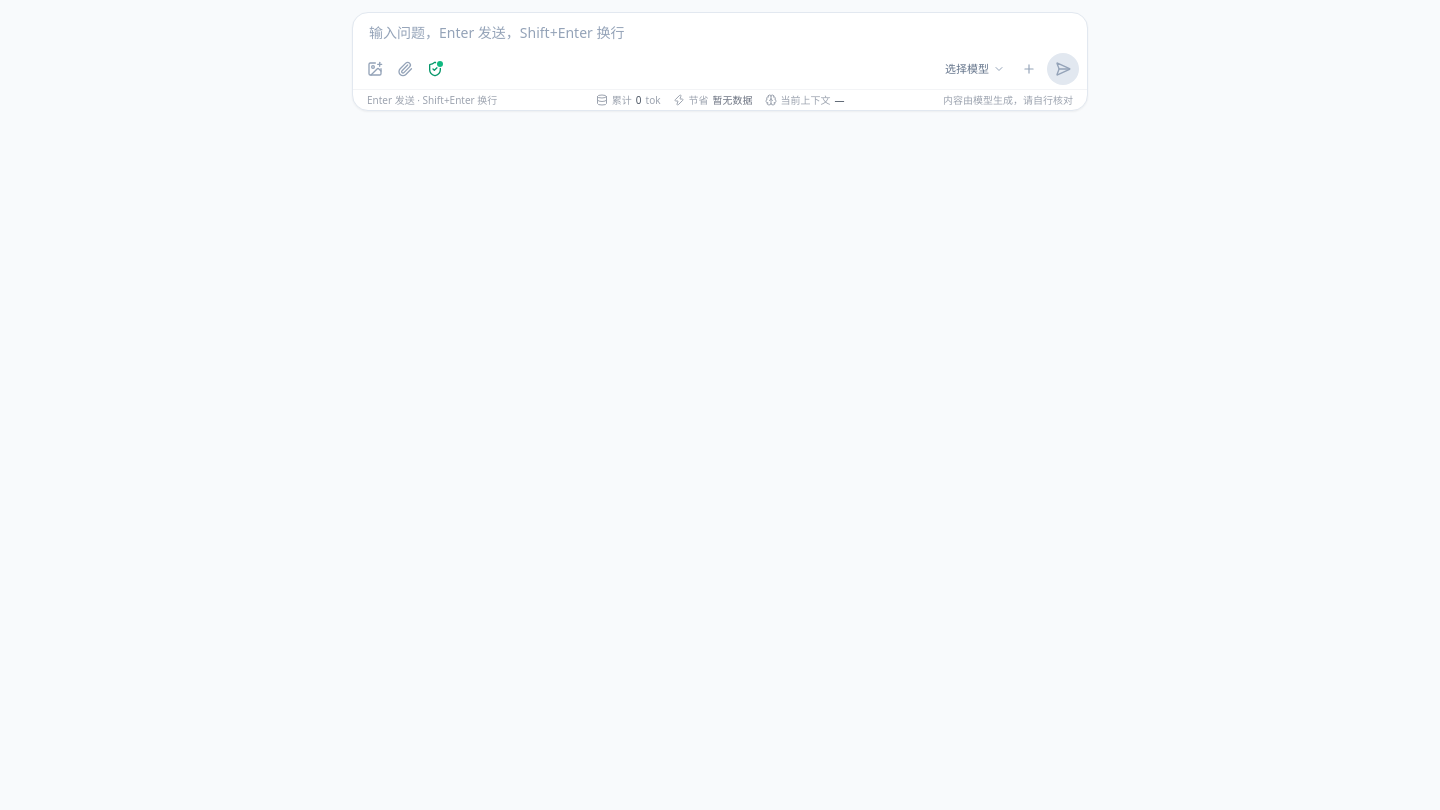
目录选择器（点击浏览代替手打路径） › 附加目录也可以点浏览按钮选择（回填到对应行）
Click the button with test id "sandbox-badge".
click(435, 69)  # box left=421, top=55, right=449, bottom=83
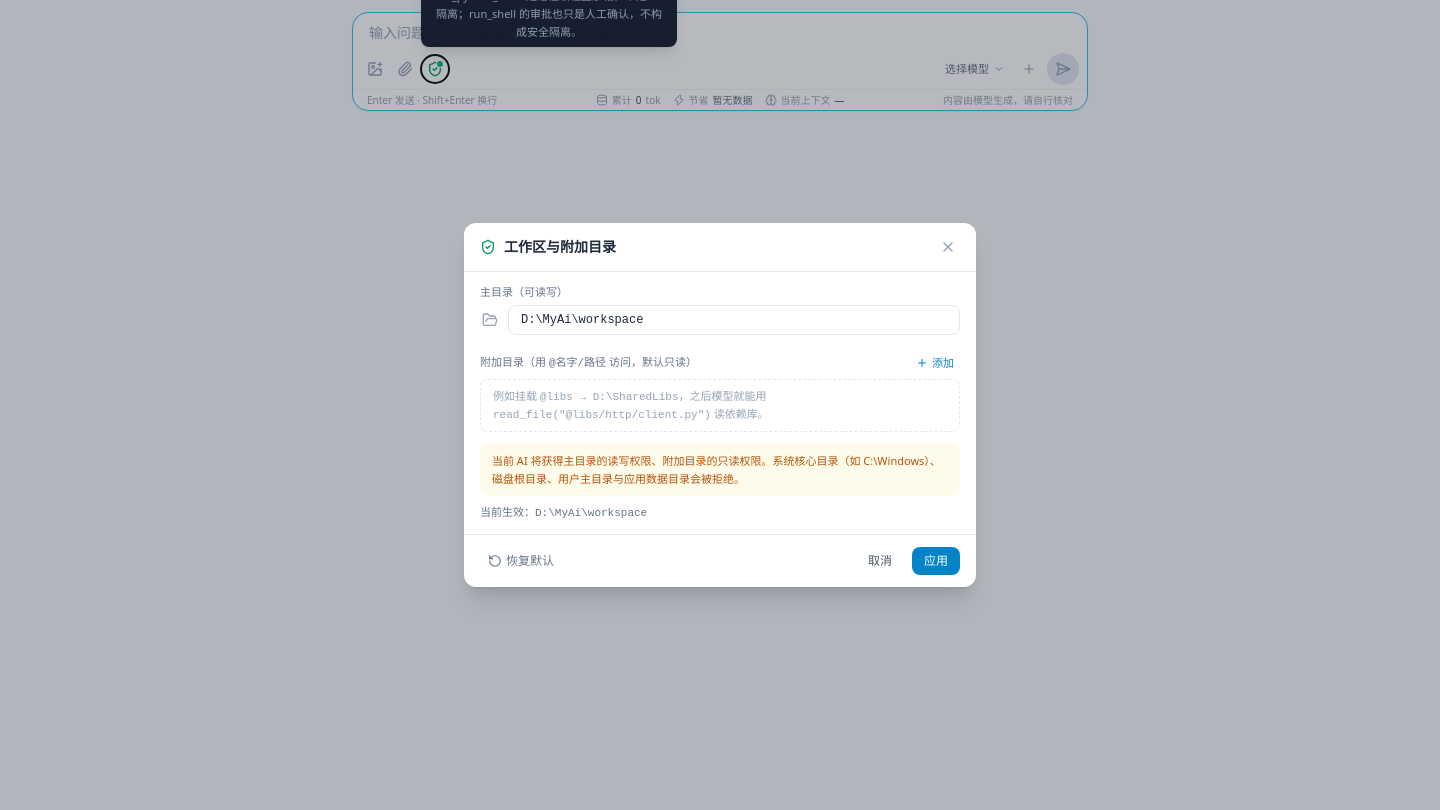
Click the button "添加".
click(935, 363)  # box left=910, top=351, right=960, bottom=375
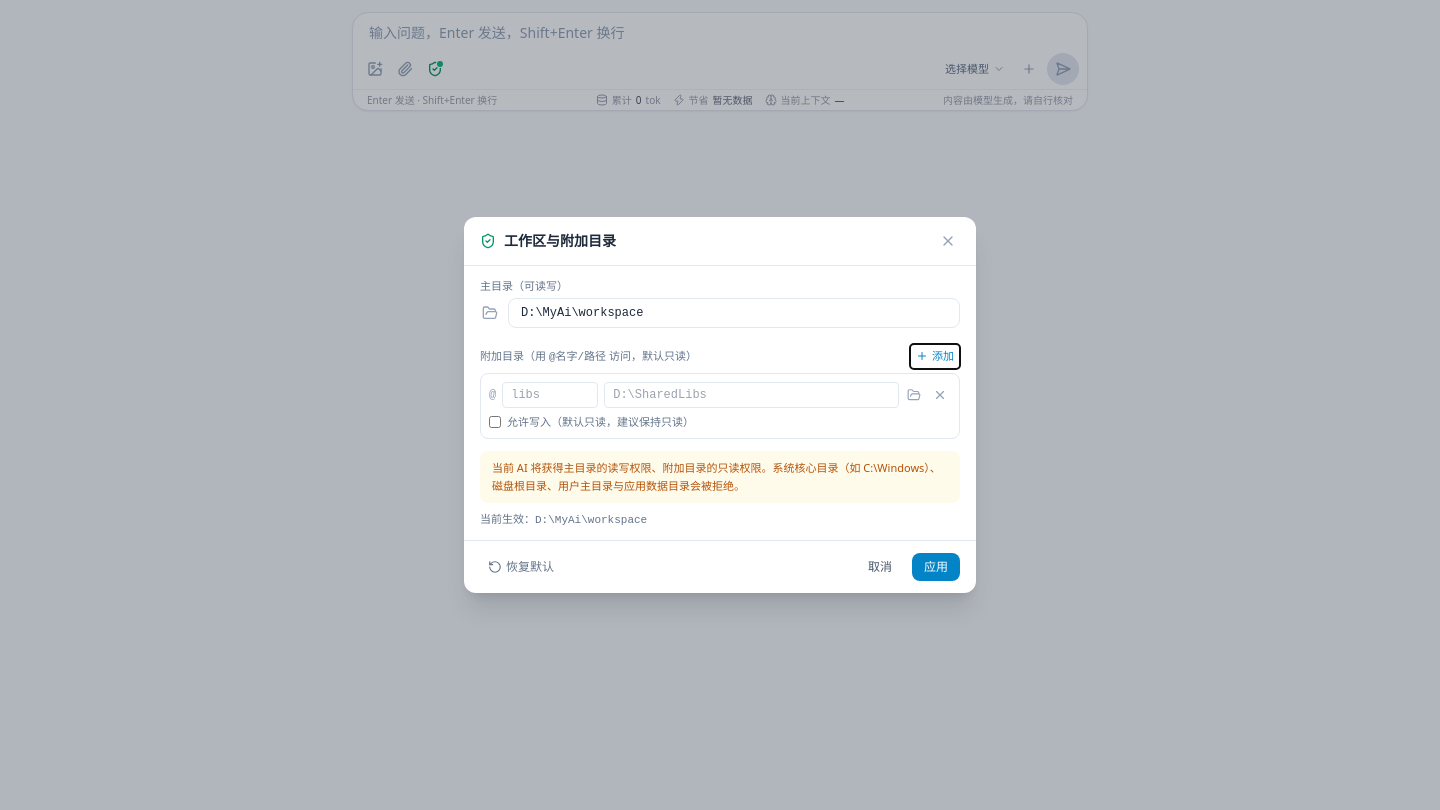
Click the button named "浏览选择附加目录 1".
click(914, 395)  # box left=905, top=386, right=923, bottom=404
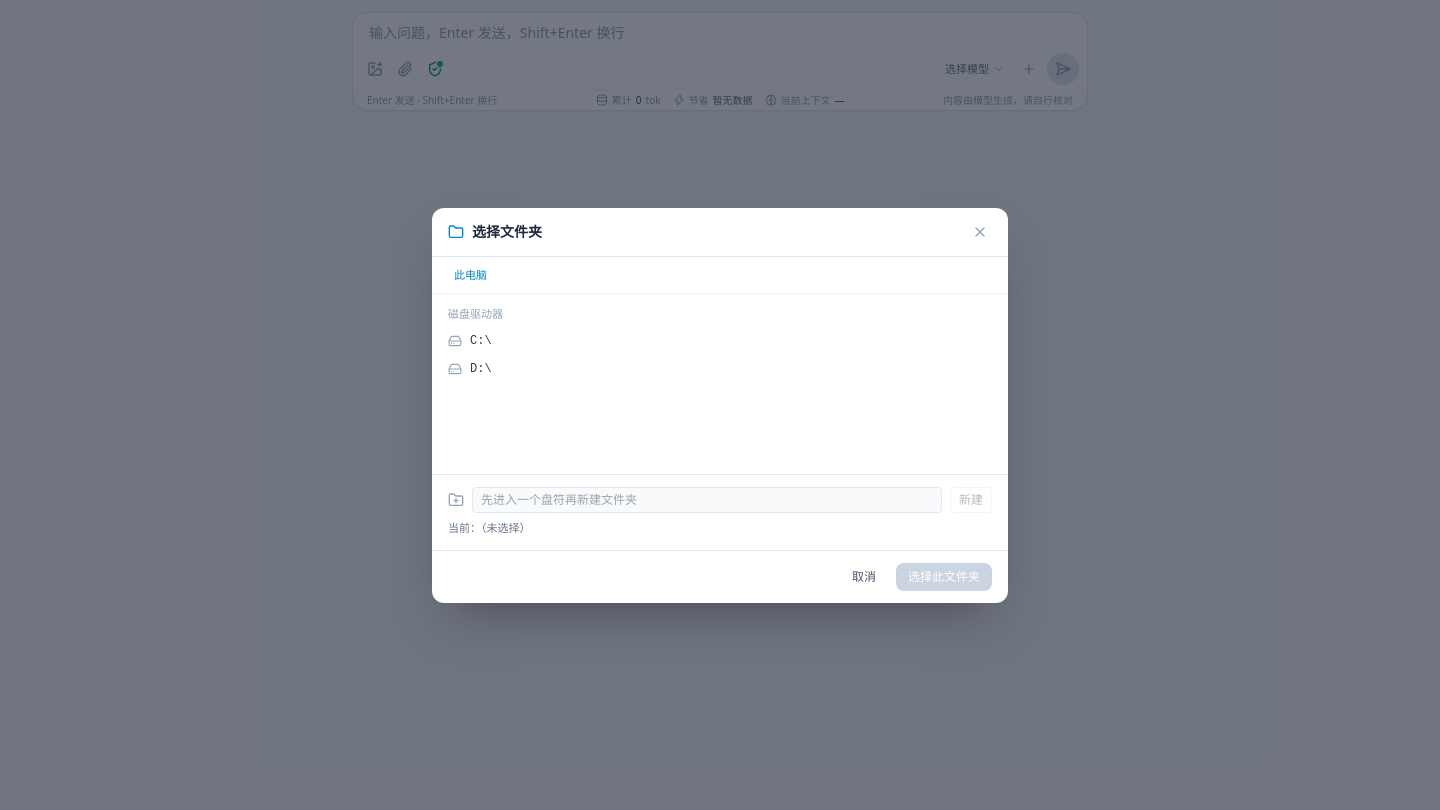
Click the button "D:\\".
click(455, 368)  # box left=440, top=354, right=1000, bottom=382
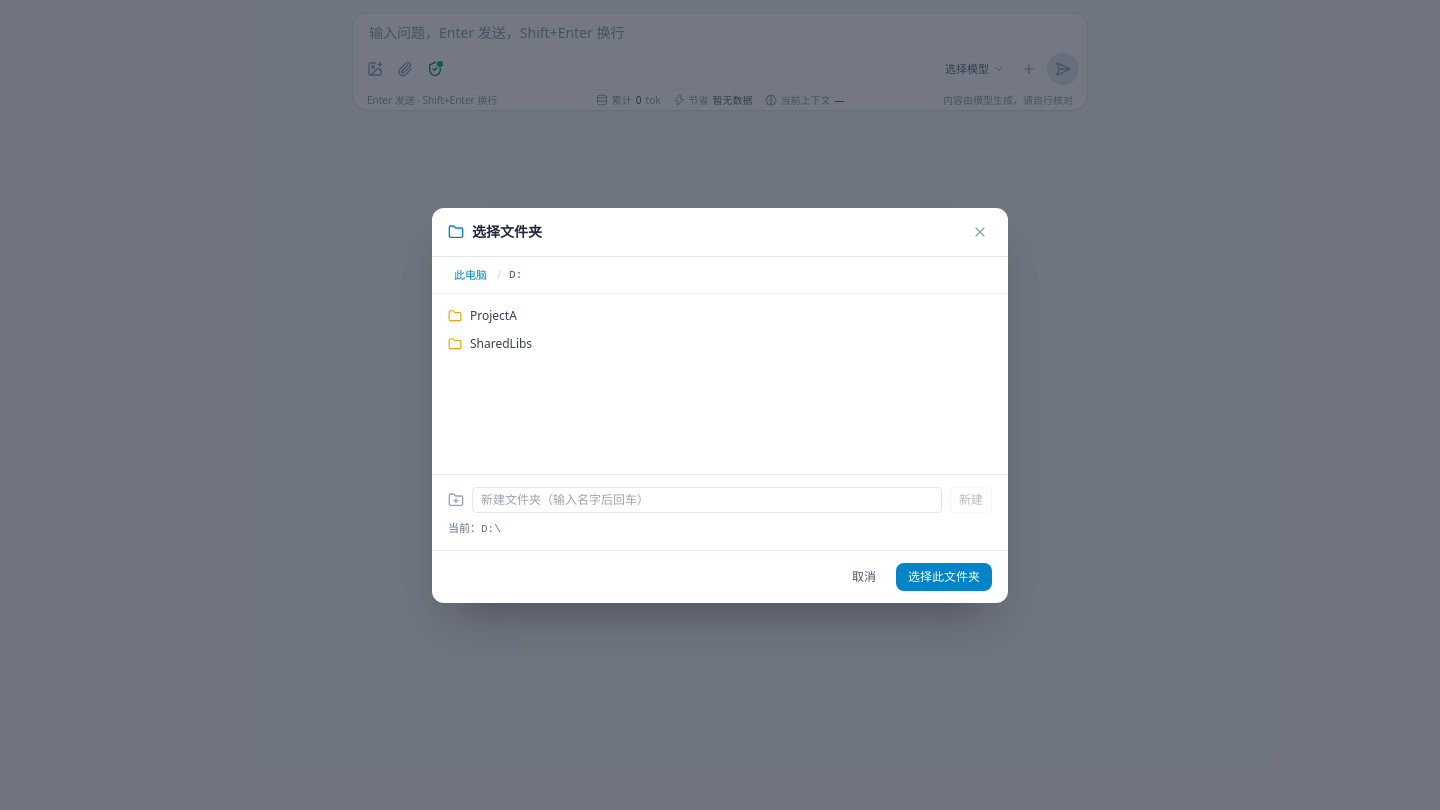
Click the button "SharedLibs".
click(501, 344)  # box left=440, top=330, right=1000, bottom=358
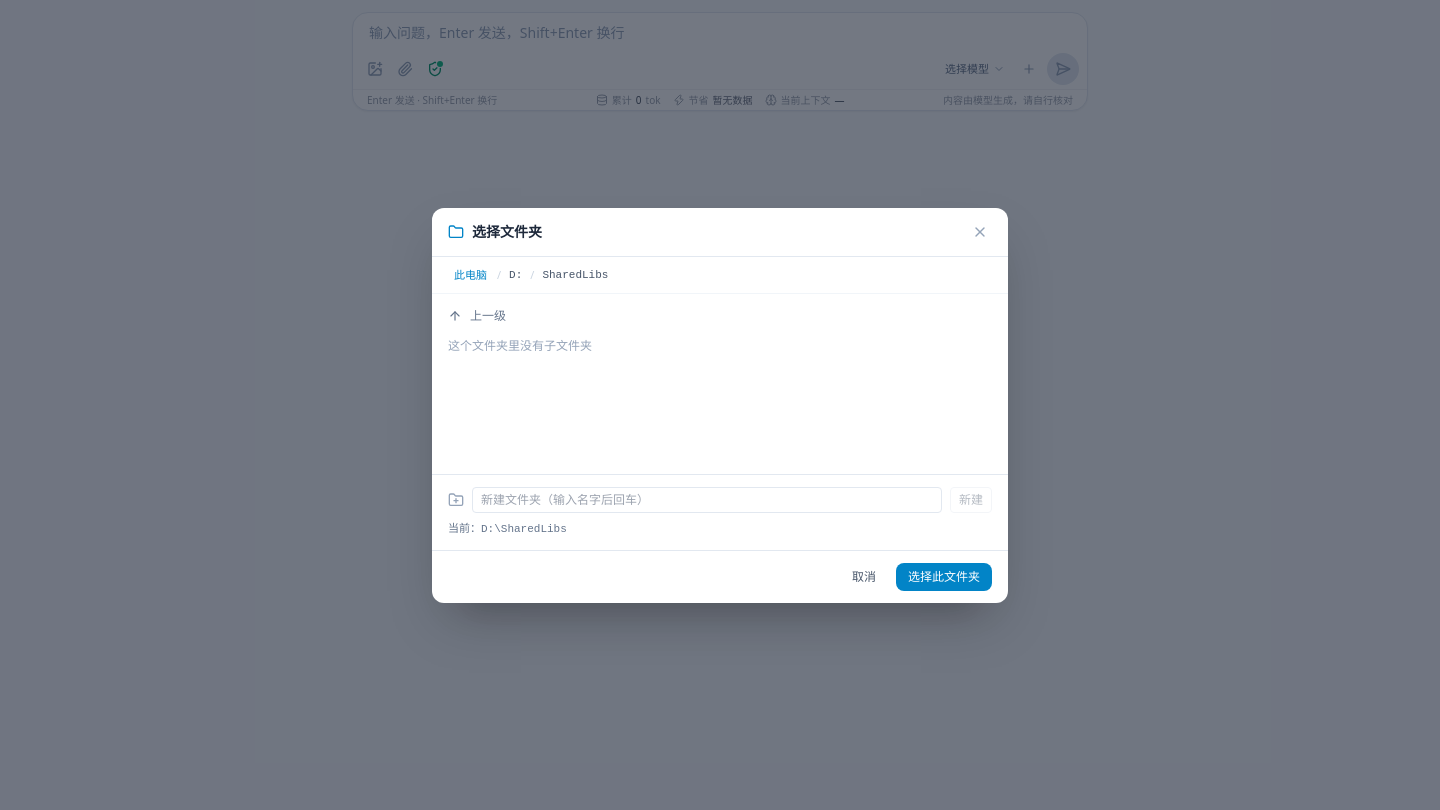
Click the button "选择此文件夹".
click(944, 576)  # box left=896, top=562, right=992, bottom=590
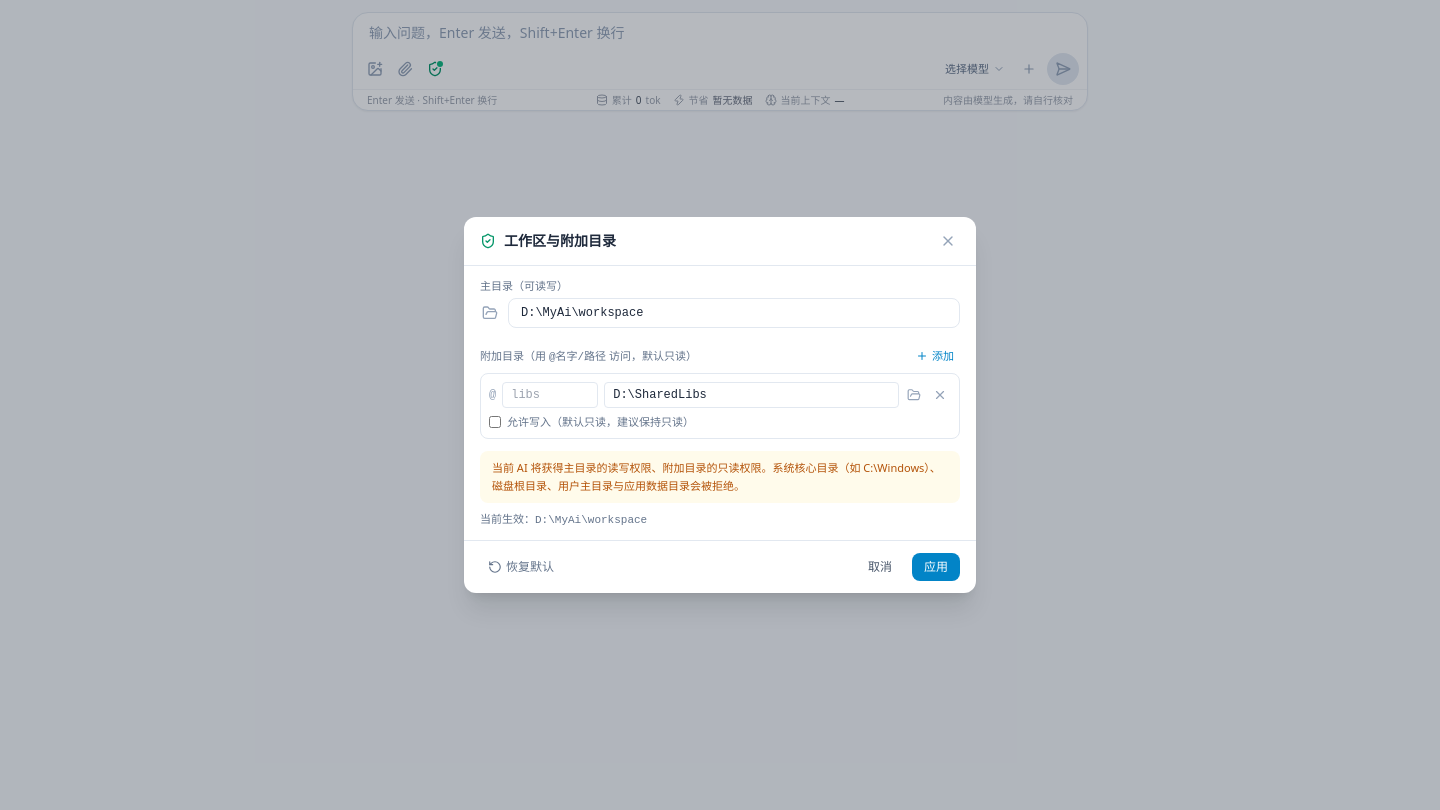
Now the field named "附加目录 1 路径" holds "D:\\SharedLibs", box left=604, top=382, right=899, bottom=408
